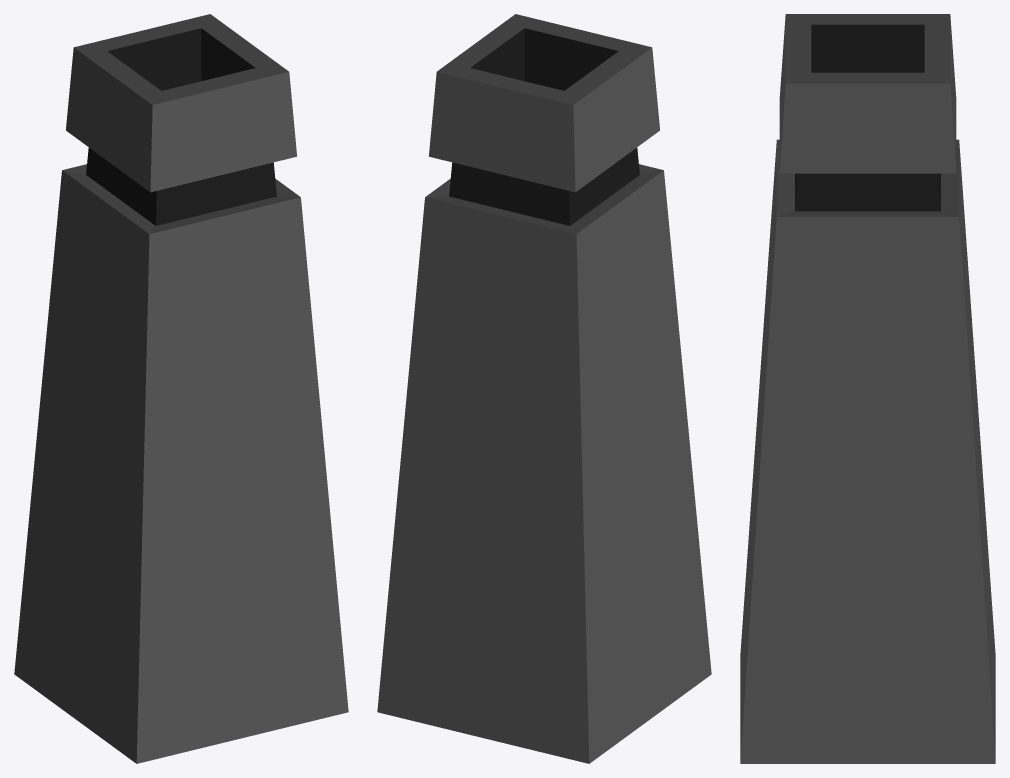
File: TorchesStanding.fbx
3 views of the same model, side by side, from view 1: azimuth 30°, elevation 25°; view 2: azimuth 150°, elevation 25°; view 3: azimuth 270°, elevation 25° (orthographic). The views are drawn at different scales.
Visible parts, largest first — view 1: TorchesStanding; view 2: TorchesStanding; view 3: TorchesStanding.
Boxes of the visible parts, bbox=[...] form: TorchesStanding: bbox=[14, 14, 348, 763]; TorchesStanding: bbox=[377, 14, 711, 763]; TorchesStanding: bbox=[740, 14, 995, 763].
Size of the model in its own units: 0.3122 by 0.3122 by 0.8918.
